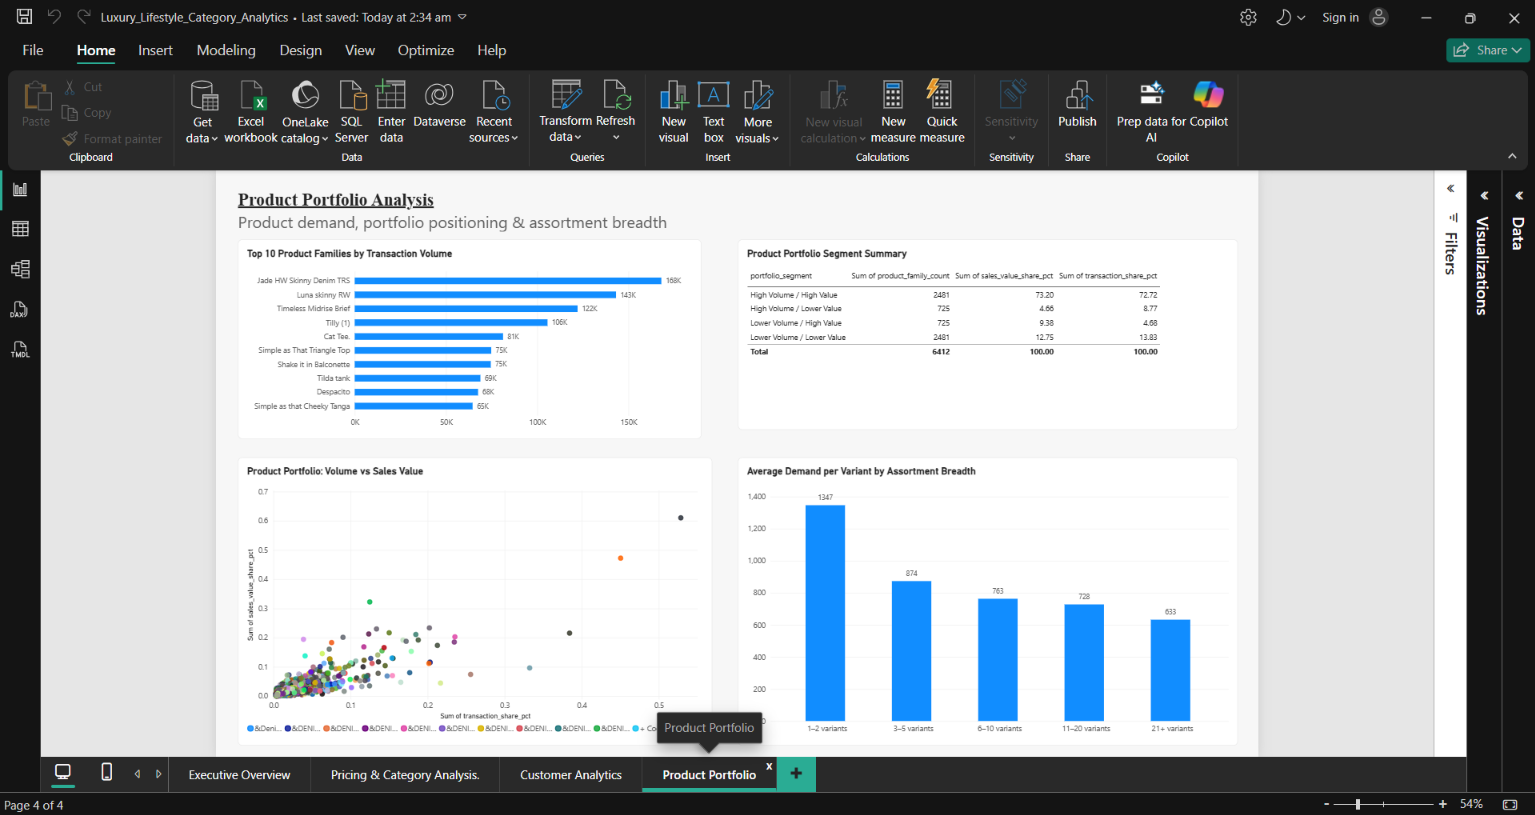

This screenshot's page, from the dashboard's own definition file:
{"tool":"powerbi","page":{"name":"Product Portfolio","canvas":[1920,1080],"ordinal":3},"visuals":[{"type":"clusteredBarChart","title":"Top 10 Product Families by Transaction Volume","fields":{"Category":["product_name_demand.prod_name"],"Y":["Sum(product_name_demand.transaction_count)"]},"box":[40,127.5,852.5,367.5],"z":0},{"type":"tableEx","title":"Product Portfolio Segment Summary","fields":{"Values":["portfolio_segment_summary.portfolio_segment","Sum(portfolio_segment_summary.product_family_count)","Sum(portfolio_segment_summary.sales_value_share_pct)","Sum(portfolio_segment_summary.transaction_share_pct)"]},"box":[960,127.5,920,350],"z":1000},{"type":"scatterChart","title":"Product Portfolio: Volume vs Sales Value","fields":{"Series":["product_portfolio_matrix.prod_name"],"X":["Sum(product_portfolio_matrix.transaction_share_pct)"],"Y":["Sum(product_portfolio_matrix.sales_value_share_pct)"]},"box":[40,527.5,872.5,530],"z":2000},{"type":"clusteredColumnChart","title":"Average Demand per Variant by Assortment Breadth","fields":{"Category":["assortment_breadth_summary.variant_breadth_group"],"Y":["Avg(assortment_breadth_summary.avg_transactions_per_variant)"]},"box":[960,527.5,920,530],"z":3000},{"type":"textbox","title":"Product Portfolio Analysis","box":[40,35,812.5,117.5],"z":3001}]}

Visuals, with their boxes on the page's 1920x1080 design canvas (x1, y1, x2, y2). These are canvas units, not pixel positions in the 1535x815 screenshot, which may show the page scaled, cropped or inside an application window:
"Top 10 Product Families by Transaction Volume" clusteredBarChart: left=40, top=128, right=892, bottom=495
"Product Portfolio Segment Summary" tableEx: left=960, top=128, right=1880, bottom=478
"Product Portfolio: Volume vs Sales Value" scatterChart: left=40, top=528, right=912, bottom=1058
"Average Demand per Variant by Assortment Breadth" clusteredColumnChart: left=960, top=528, right=1880, bottom=1058
"Product Portfolio Analysis" textbox: left=40, top=35, right=852, bottom=152
